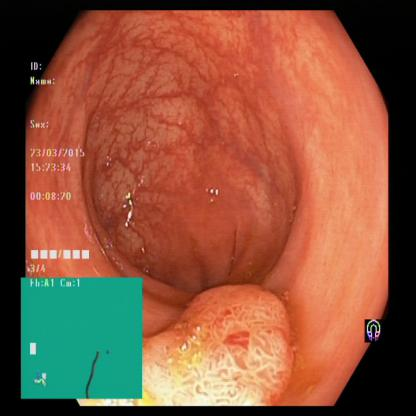Labels: (24, 60, 108, 278), (20, 277, 141, 398), (356, 309, 391, 355)
Polyps: (167, 281, 292, 405)
